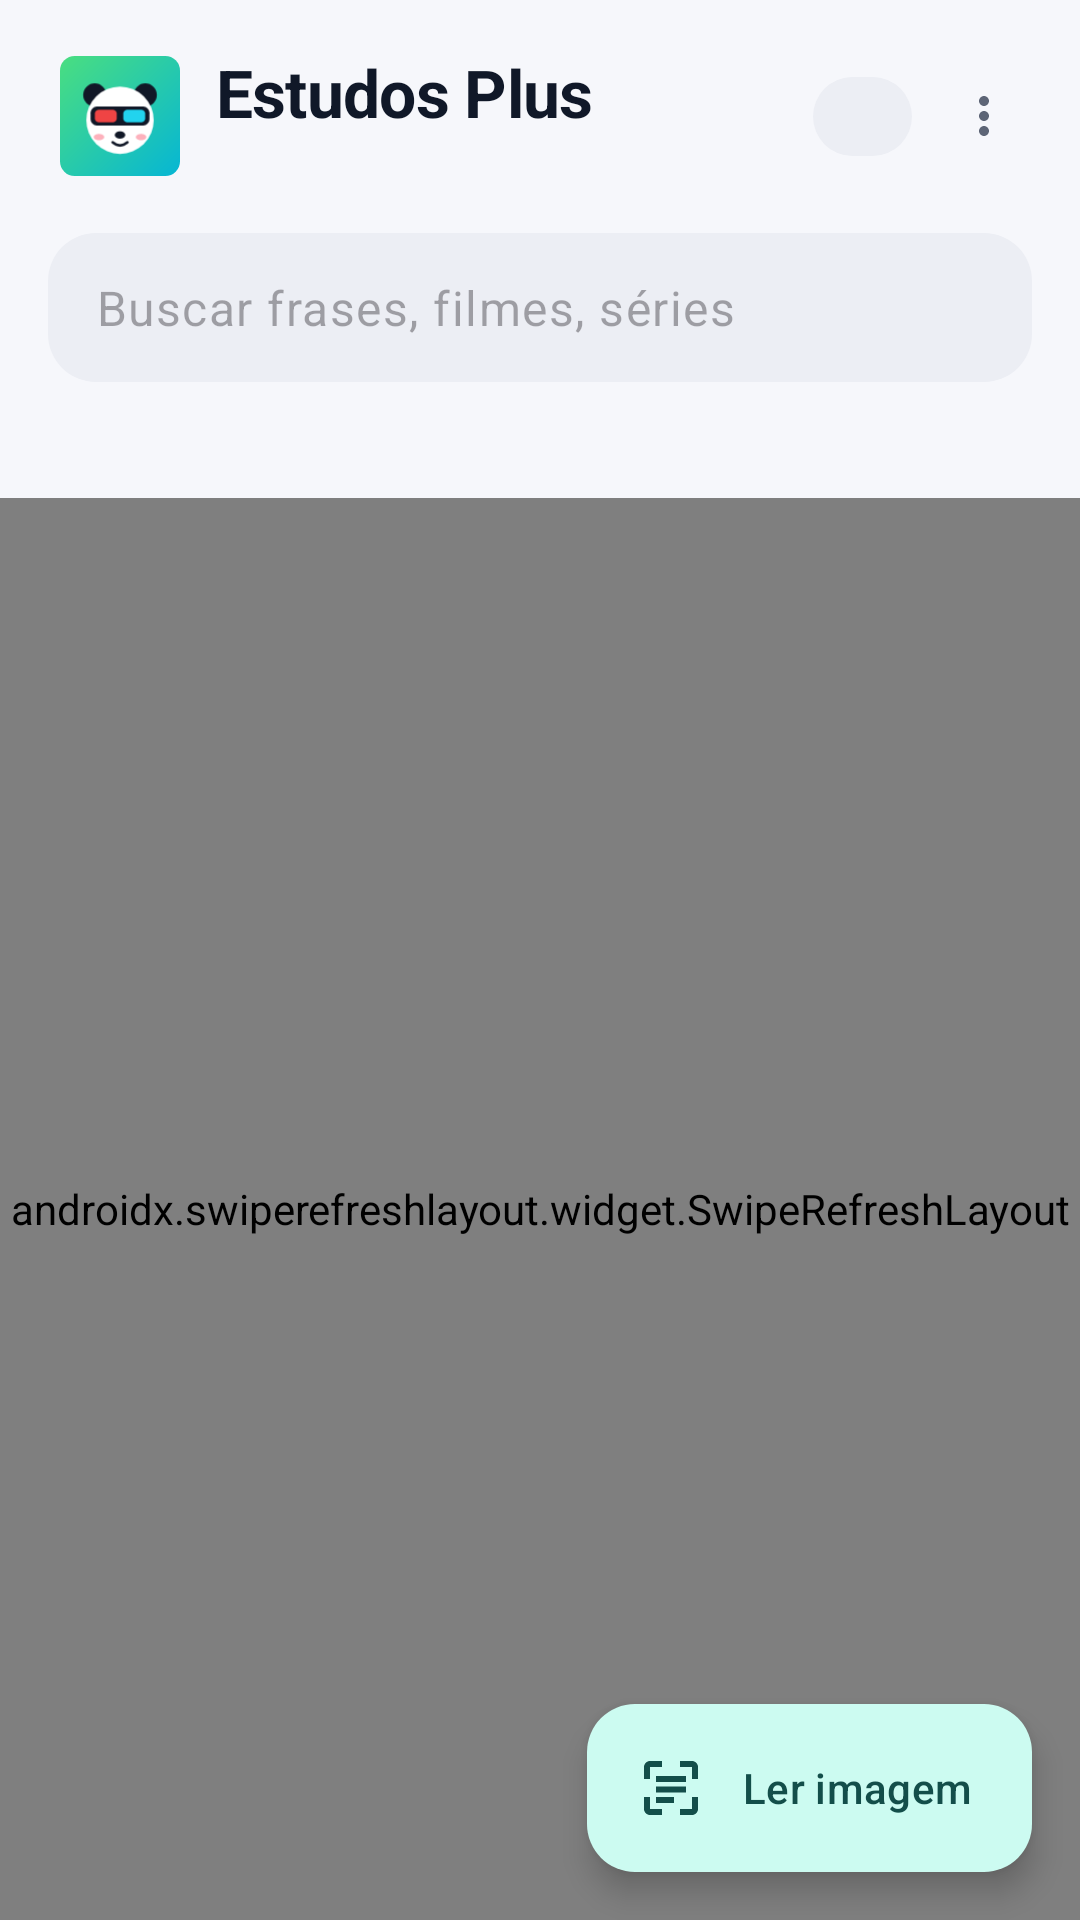

Named icons in this screenshot (1080x1920) and their centers, (x,y):
Mais opções: (984,116)
